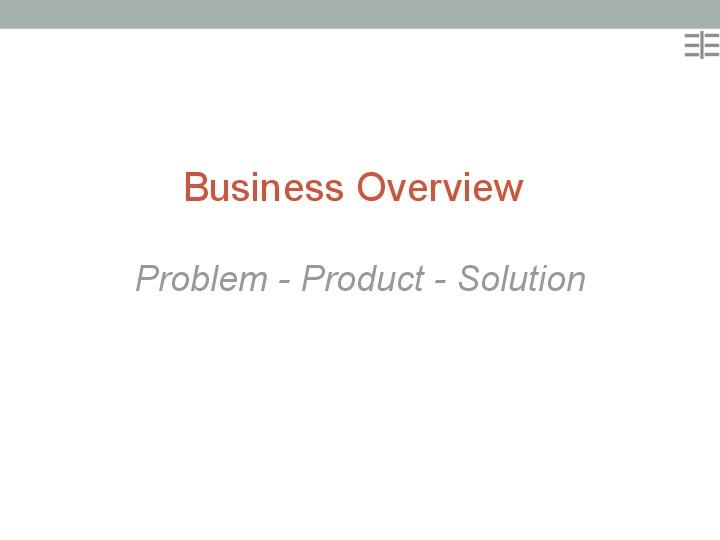title: (112, 137, 625, 325)
